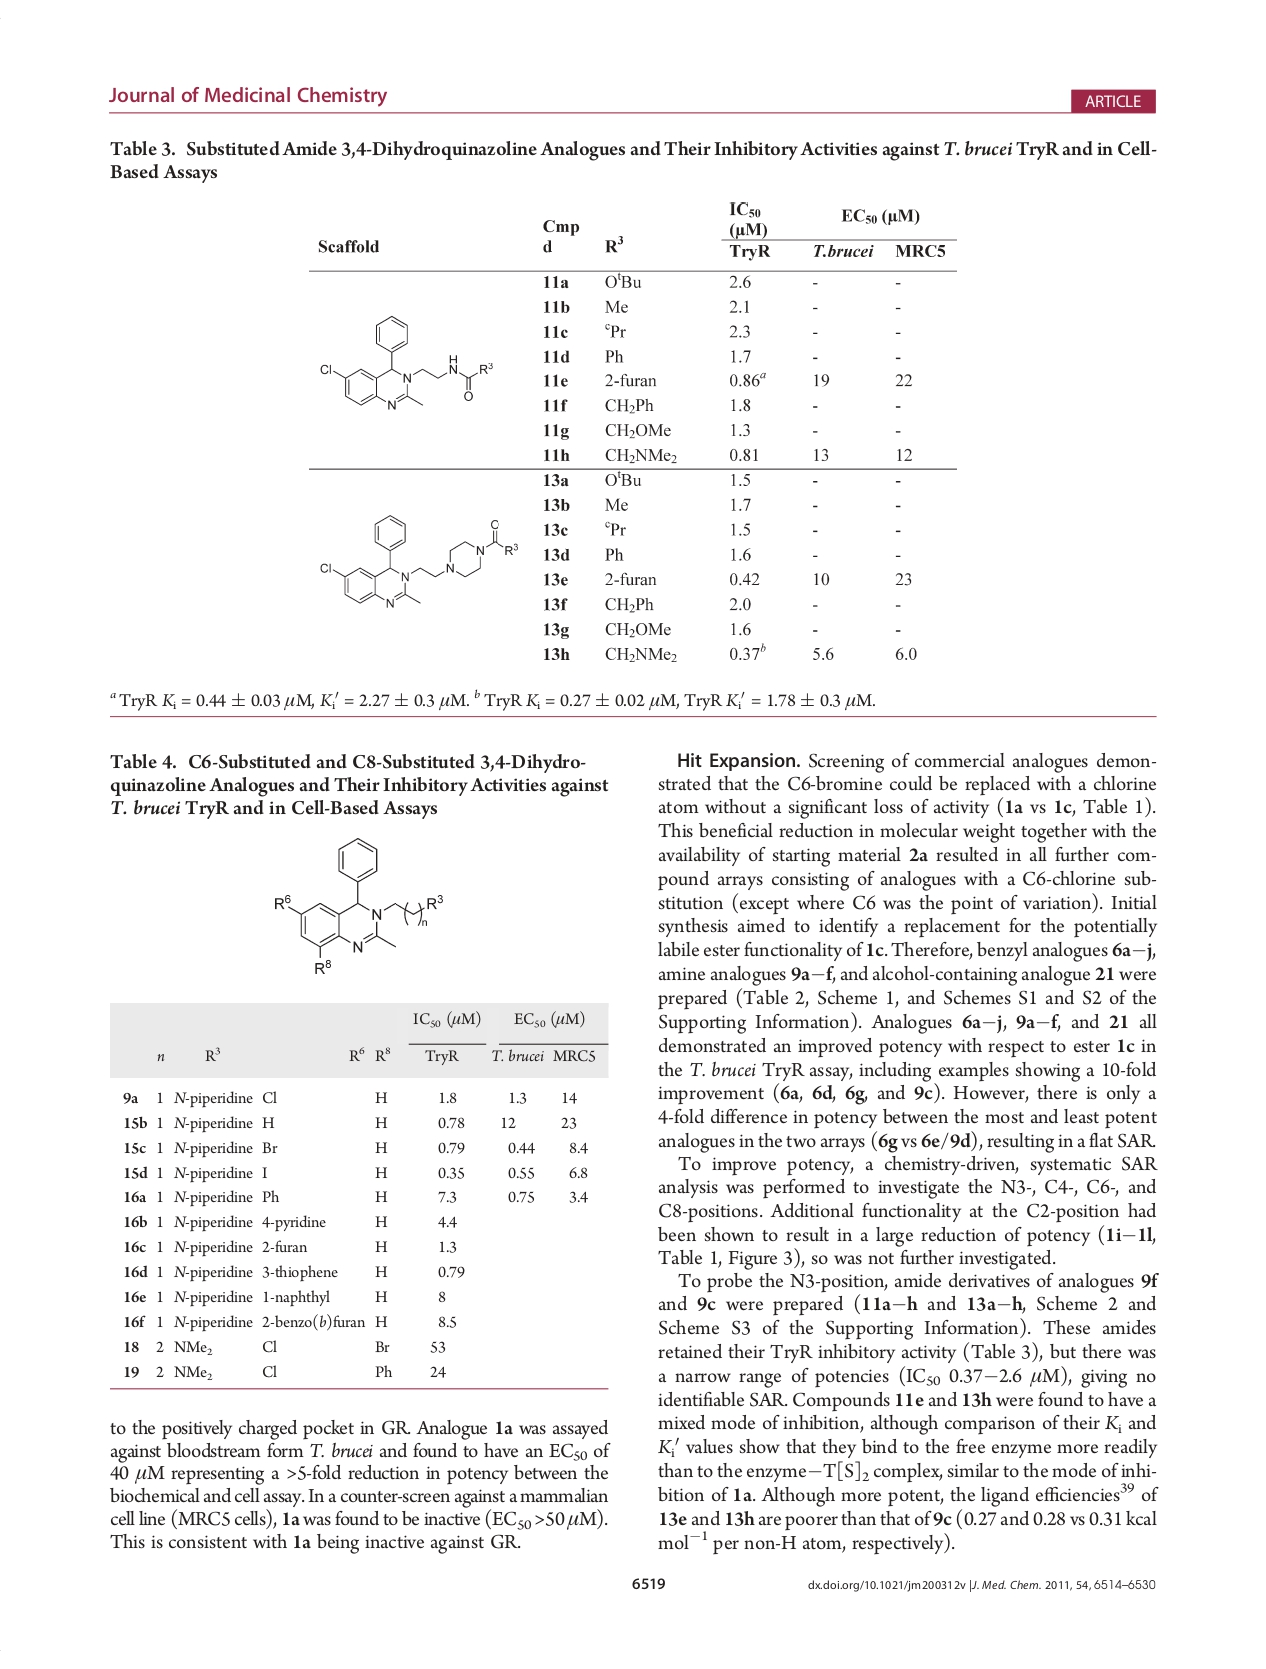exist_molecular: (271, 834, 445, 977), (316, 511, 521, 610), (316, 314, 495, 410)
